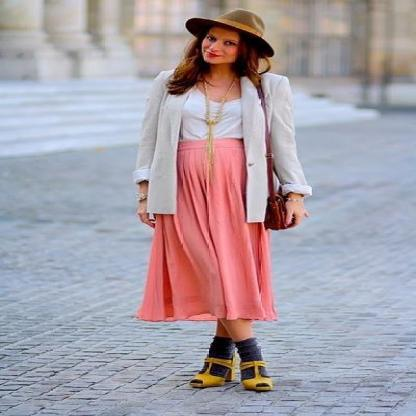bag: (252, 124, 302, 234)
dress: (137, 88, 276, 322)
hat: (185, 11, 274, 57)
jacket: (123, 69, 311, 224)
shoe: (190, 342, 272, 392)
